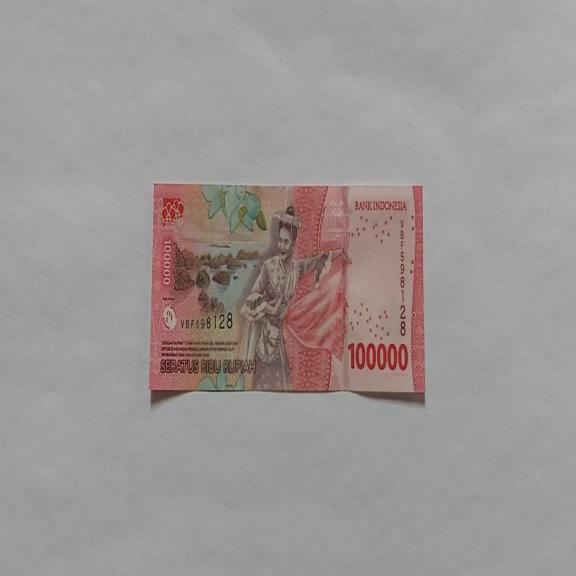Kertas: (148, 181, 425, 398), (347, 339, 409, 372)
